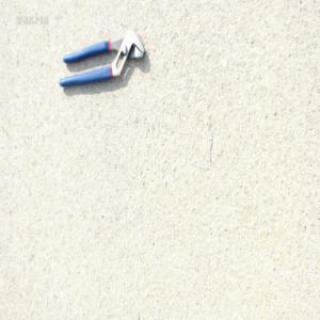Pliertrack_idkeyframe: (56, 28, 144, 88)
